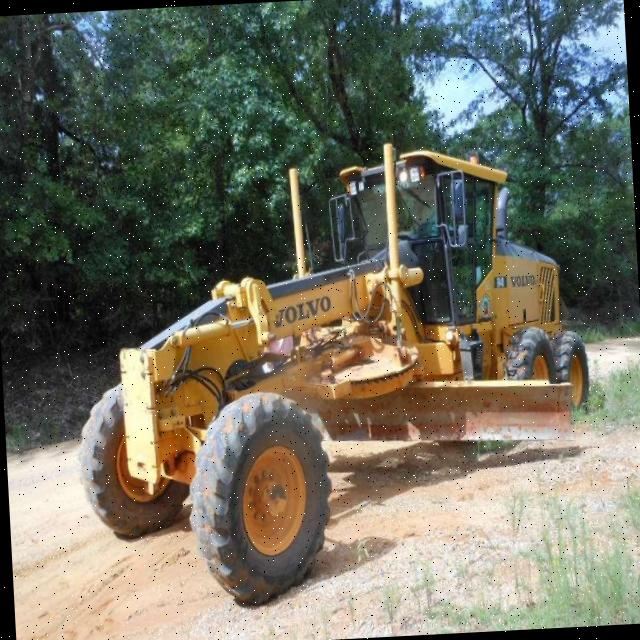Grader: (17, 117, 626, 608)
